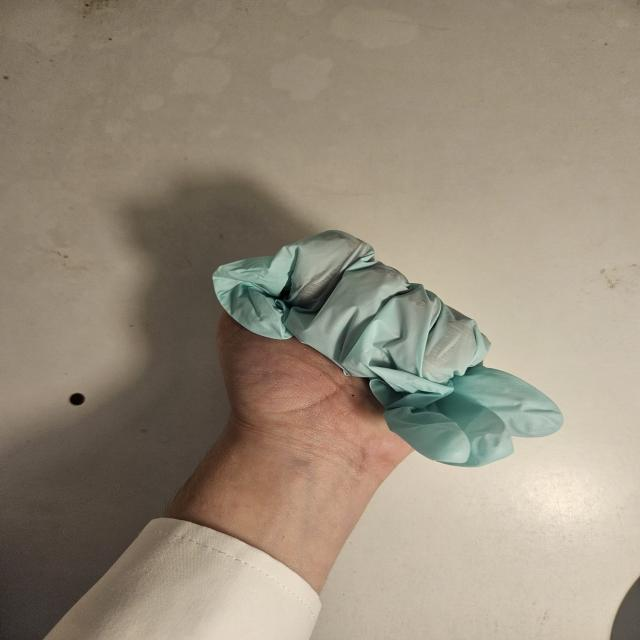glove_partial: (212, 230, 565, 468)
